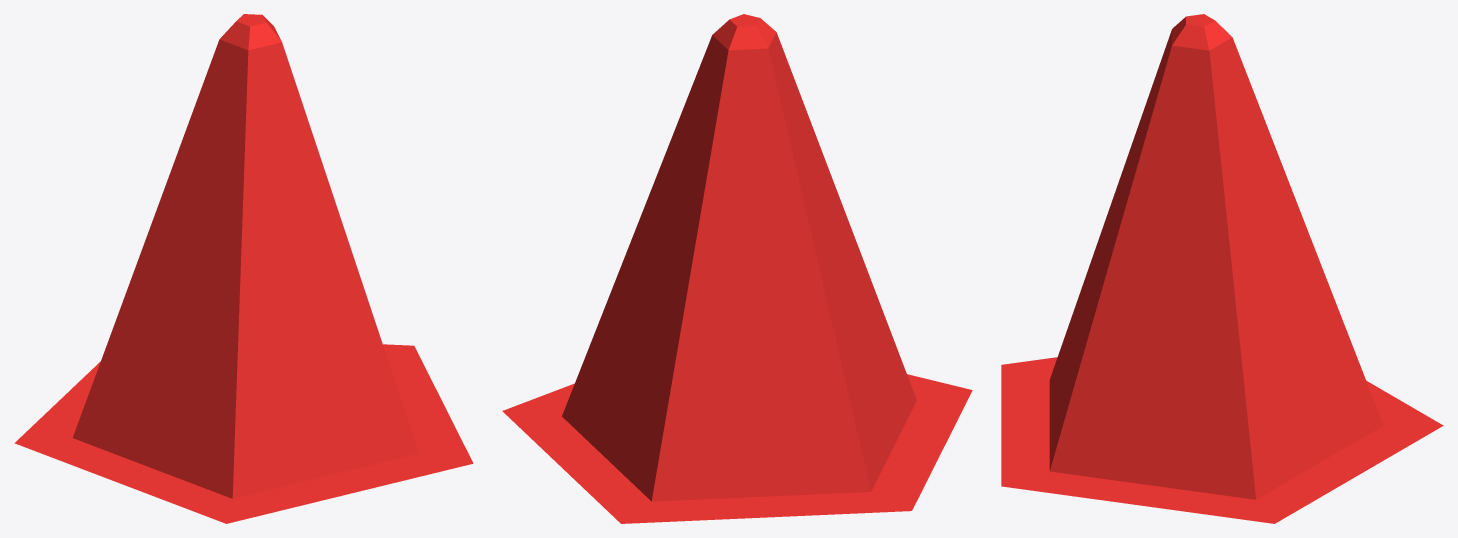
The model's file is corn.fbx.
The picture shows the model from 3 angles, left to right: view 1: azimuth 30°, elevation 25°; view 2: azimuth 150°, elevation 25°; view 3: azimuth 270°, elevation 25°; orthographic projection. The views are drawn at different scales.
Visible parts, largest first — view 1: 円柱.001; view 2: 円柱.001; view 3: 円柱.001.
Boxes of the visible parts, x1=… form: 円柱.001: x1=14, y1=14, x2=473, y2=523; 円柱.001: x1=502, y1=14, x2=972, y2=523; 円柱.001: x1=1001, y1=14, x2=1443, y2=523.
Size of the model in its own units: 83.86 by 80.57 by 79.76.
